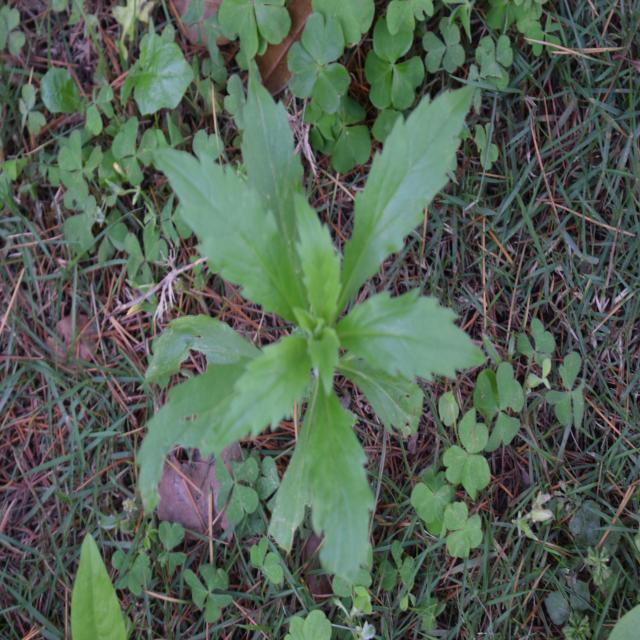horseweed: (172, 64, 458, 558)
